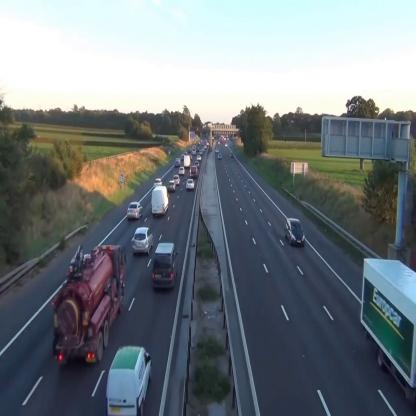car: (132, 228, 153, 255), (285, 218, 305, 246), (127, 202, 143, 220), (168, 181, 176, 192), (186, 178, 194, 189), (154, 178, 162, 188), (173, 174, 180, 185), (190, 166, 197, 176), (178, 166, 184, 174)
lorry: (53, 243, 126, 366), (359, 256, 416, 407), (106, 347, 152, 416), (152, 242, 179, 291), (152, 187, 168, 216), (184, 155, 190, 167)
